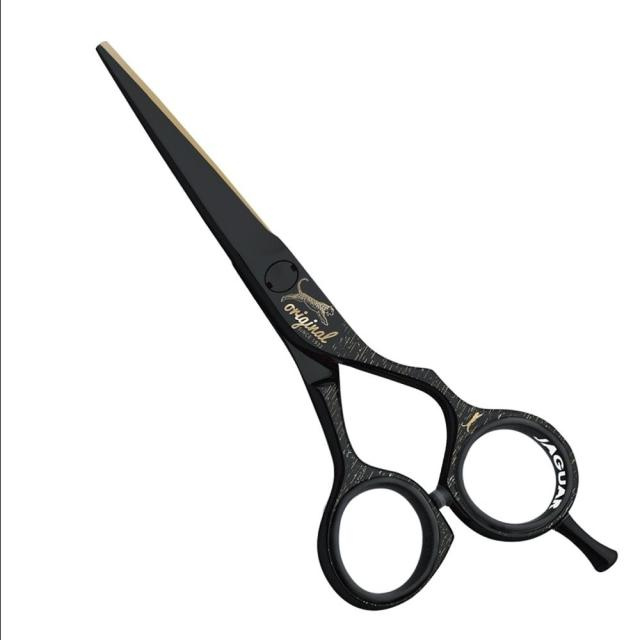scissor: (81, 16, 624, 628)
